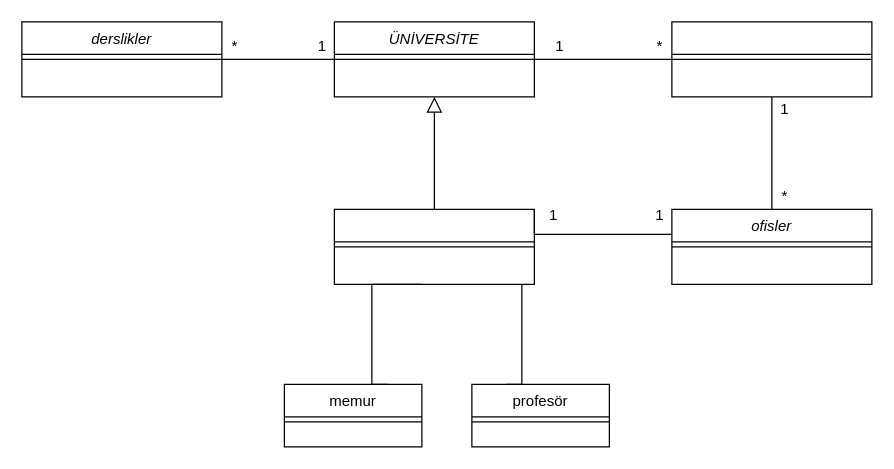
The diagram is 894 pixels wide and 469 high, and some of its shapes have lost their labels. The shapes that lost their labels are listed below. From the top down, each one's box as (x1, y1, x2, y2) in pixels, then its label:
(671, 21, 872, 97): departmanlar
(333, 208, 534, 284): çalışanlar
